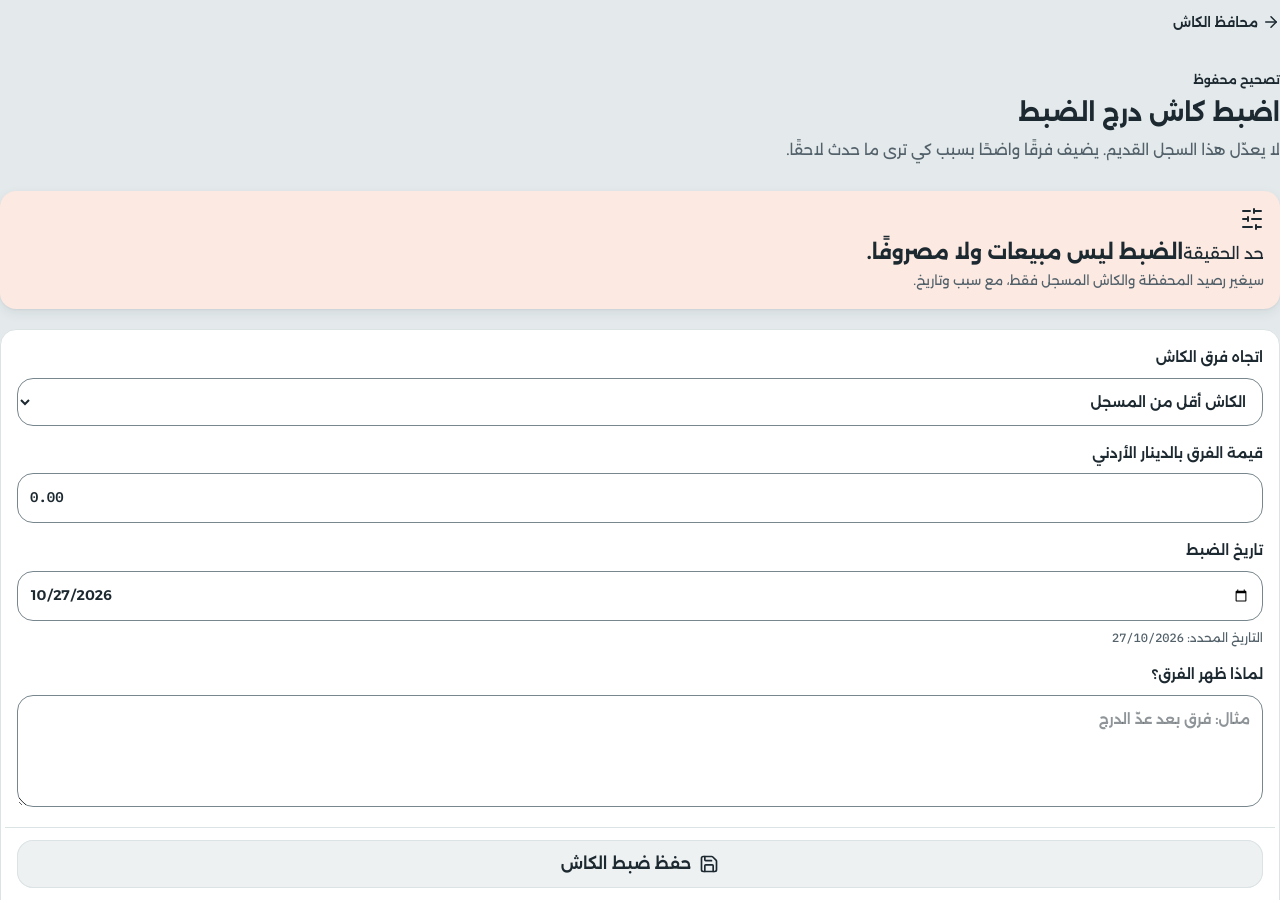
CashAdjustmentEditor — explicit read state machine (R9-GA-F3.7) › a ready wallet renders the adjustment form and the save guard blocks empty submissions with role=alert
Click the button "حفظ ضبط الكاش" at (640, 864), box x1=17 y1=840 x2=1263 y2=888
(page scrolled)
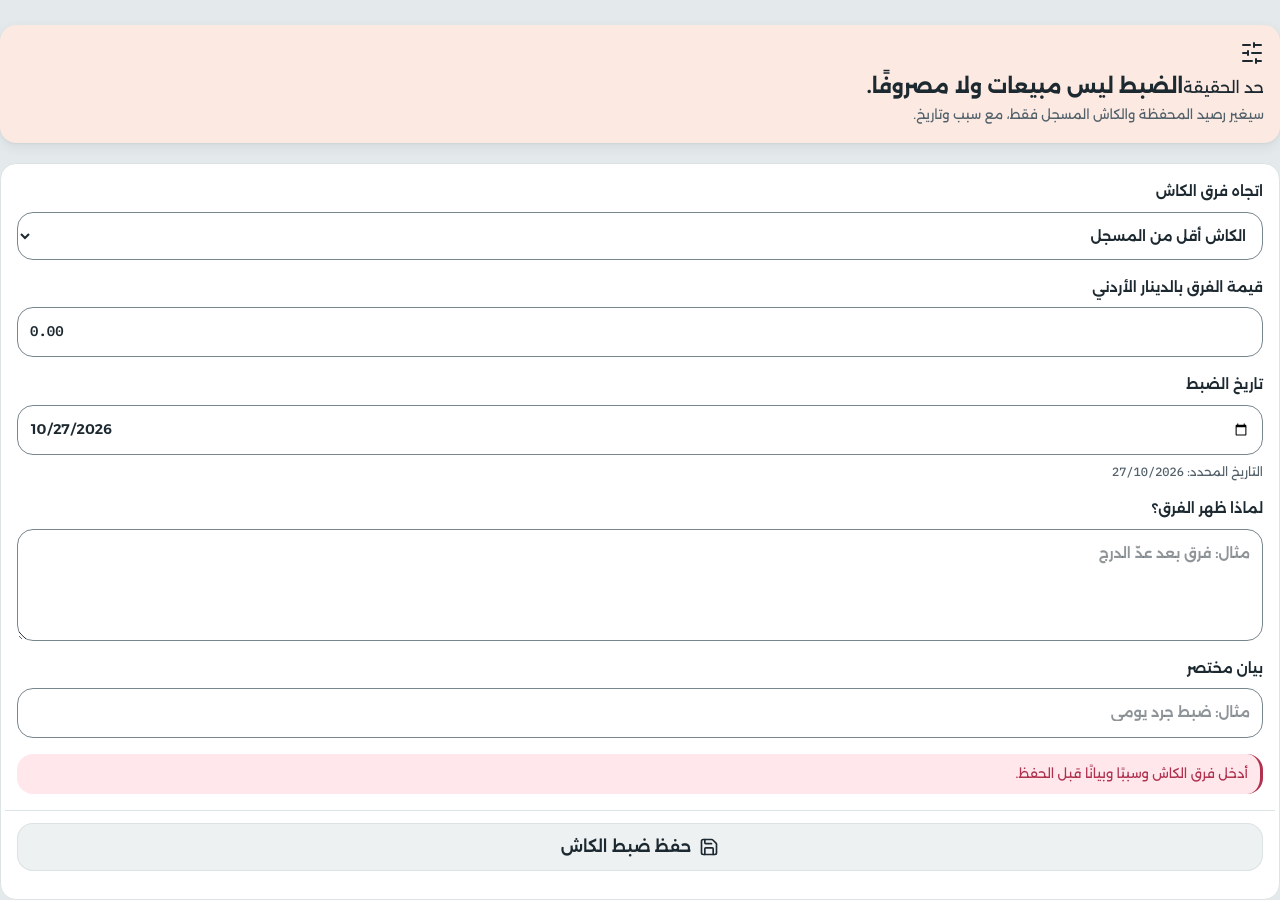
Now the message reads "أدخل فرق الكاش وسببًا وبيانًا قبل الحفظ.", box x1=1016 y1=765 x2=1248 y2=781
